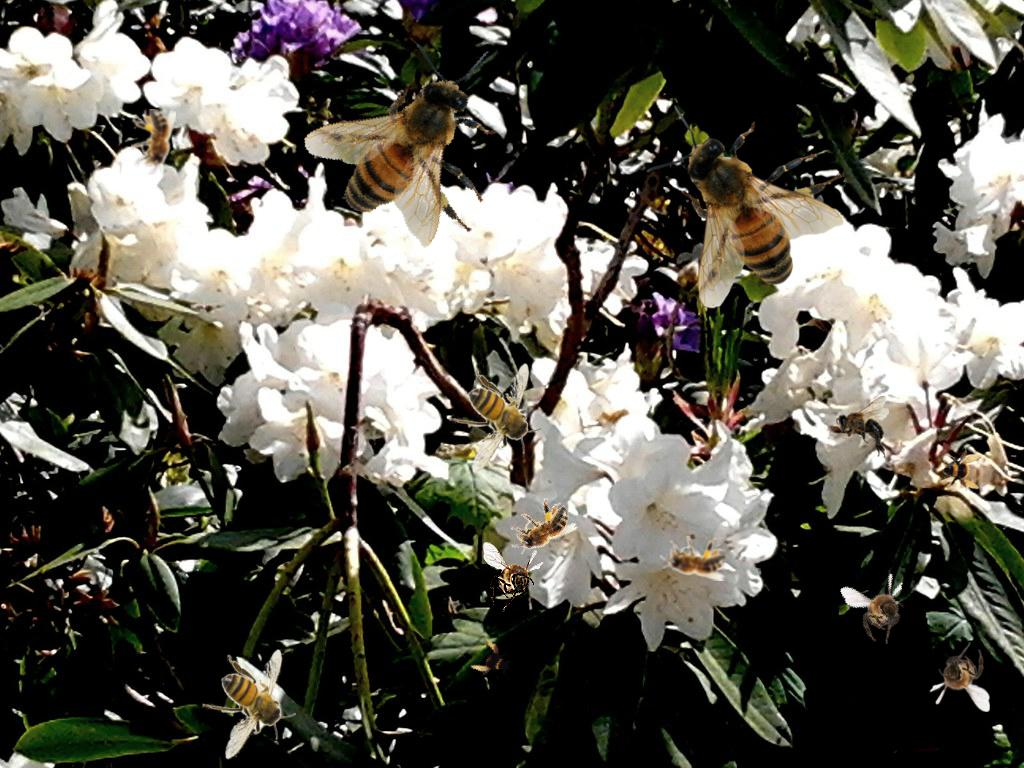Bee: (284, 23, 539, 273), (645, 105, 844, 309), (202, 649, 296, 760), (449, 363, 543, 474), (839, 563, 924, 653), (500, 490, 580, 567), (929, 642, 990, 712), (483, 542, 544, 612), (464, 633, 524, 693), (836, 396, 889, 458), (131, 109, 176, 175), (660, 536, 726, 581), (938, 447, 982, 491)
